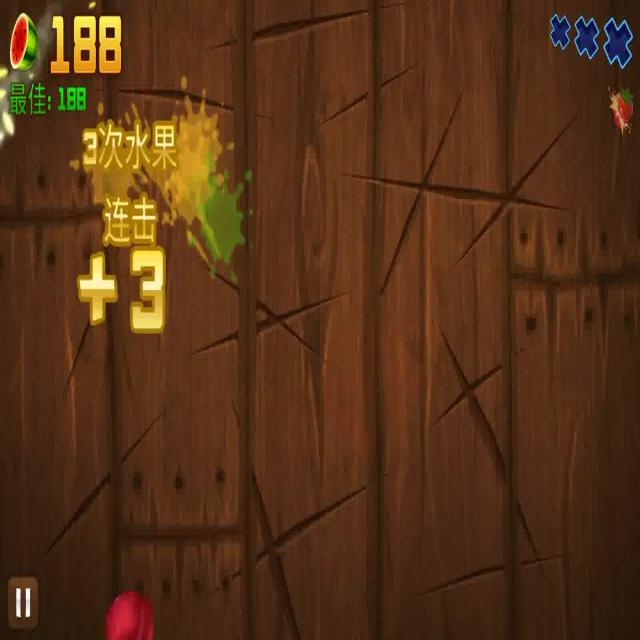fruit: (99, 586, 154, 640)
